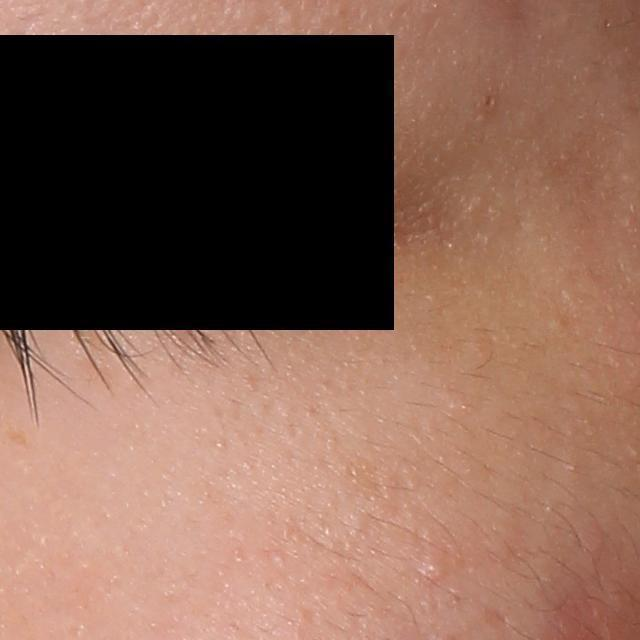comedo: (421, 557, 441, 584), (480, 94, 497, 110)
